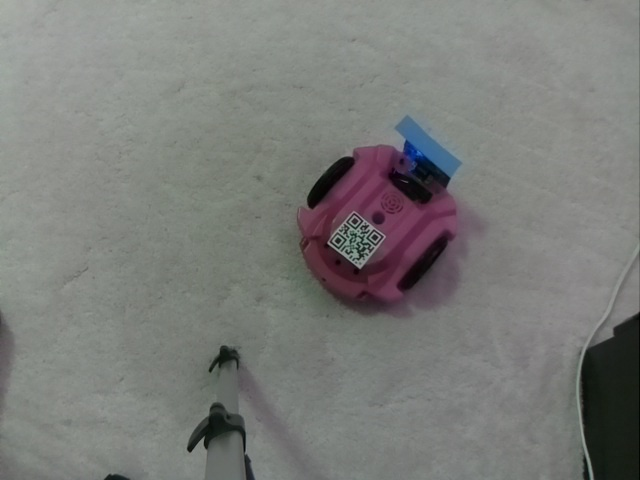chassis: (288, 129, 460, 306)
qr: (328, 208, 386, 266)
